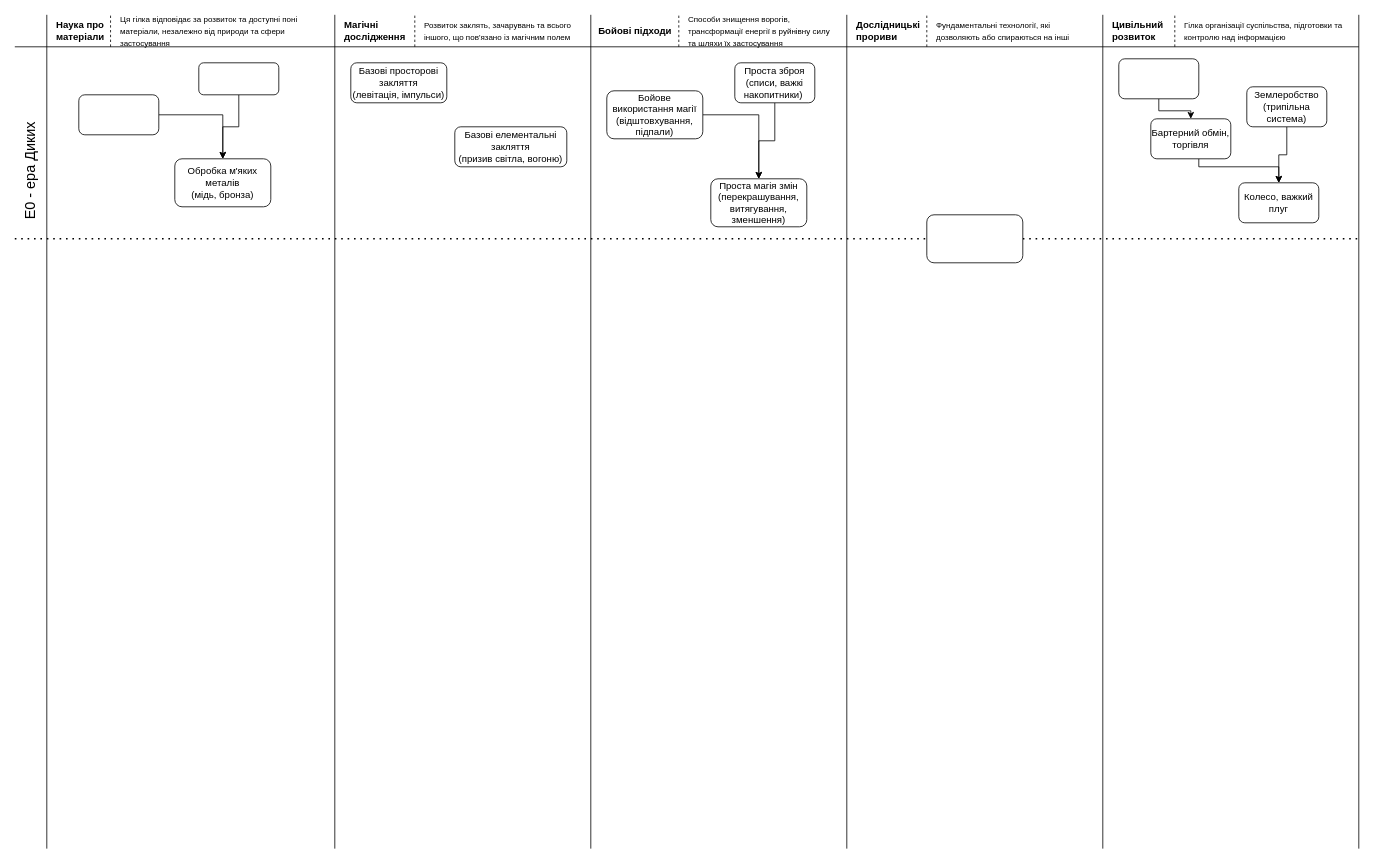
Image size: 1374x864. Some labels were removed from this diagram. Here are the shapes that lost their labels. From the top down, the centre of each, then its label:
the point at 238,78: Обробка дерева
the point at 1158,78: Сімейно-племенний устрій
the point at 118,114: Обробка м'яких пород каменів
the point at 974,238: Війна Чудовиськ, вивчення темної магії Грогара
